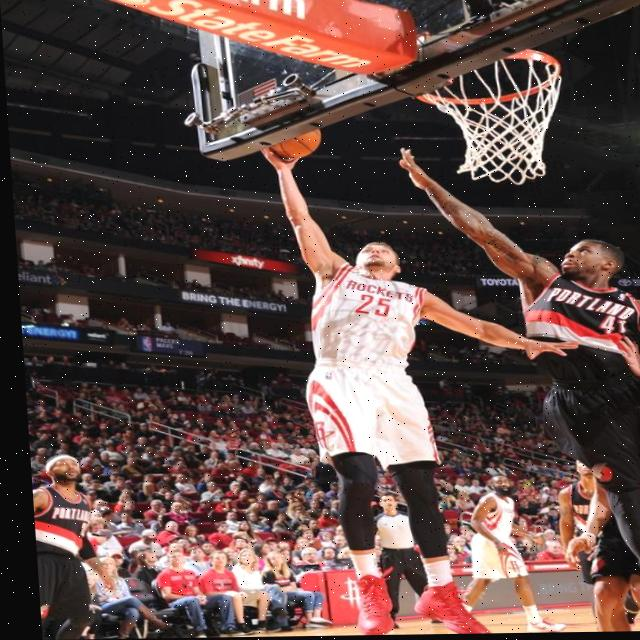basketball: (265, 125, 322, 159)
hoop: (411, 44, 571, 183)
